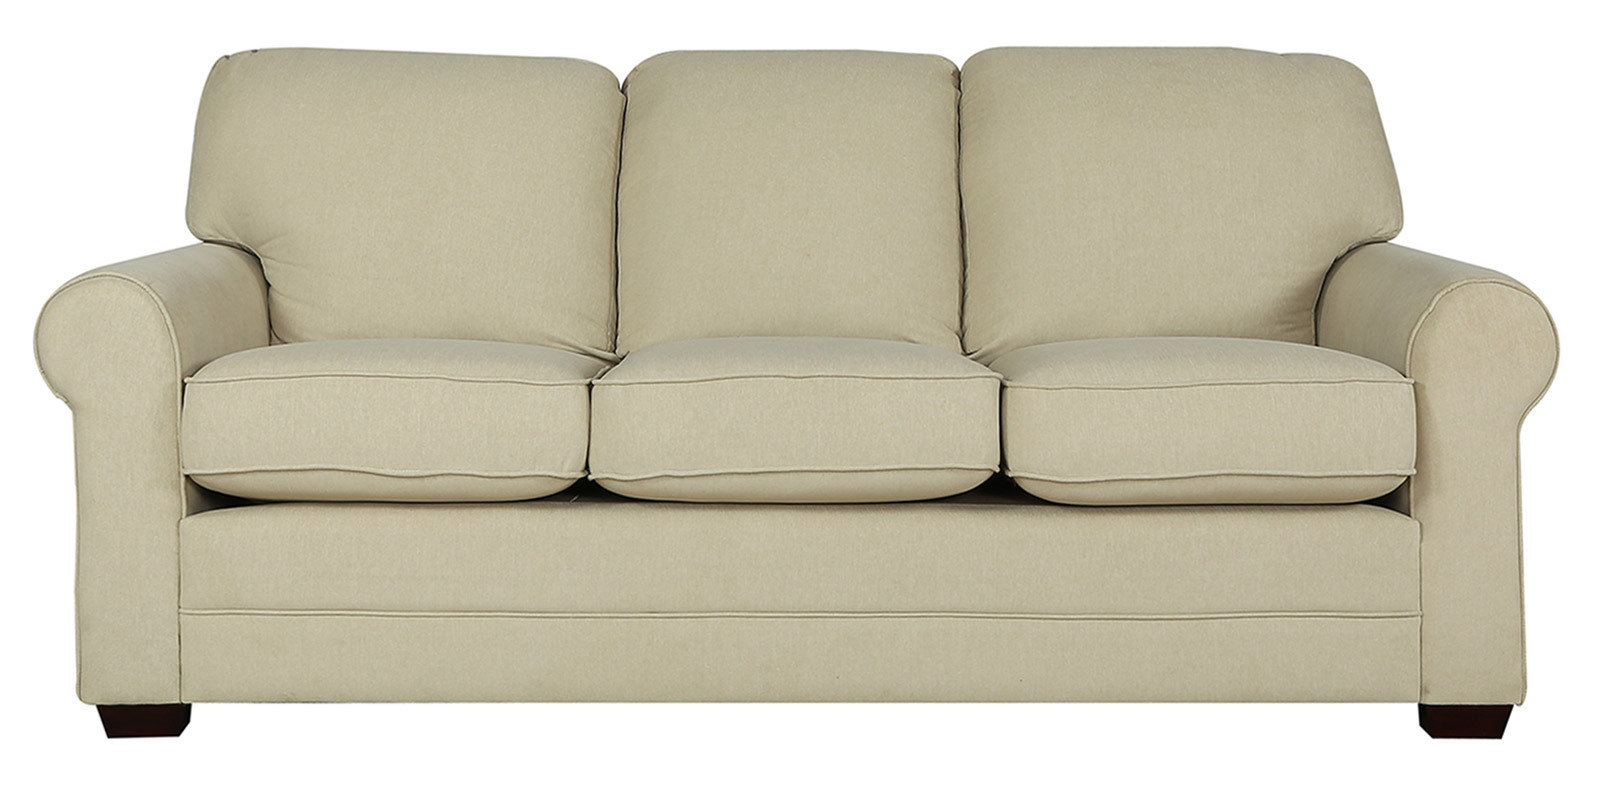Madeira Three Seater Sofa in Beige Colour by CasaCraft: (33, 49, 1559, 741)
